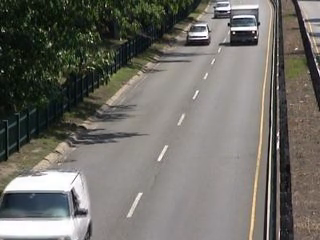car: (186, 23, 212, 46), (213, 1, 232, 19)
truck: (1, 168, 99, 240), (229, 5, 260, 47)
